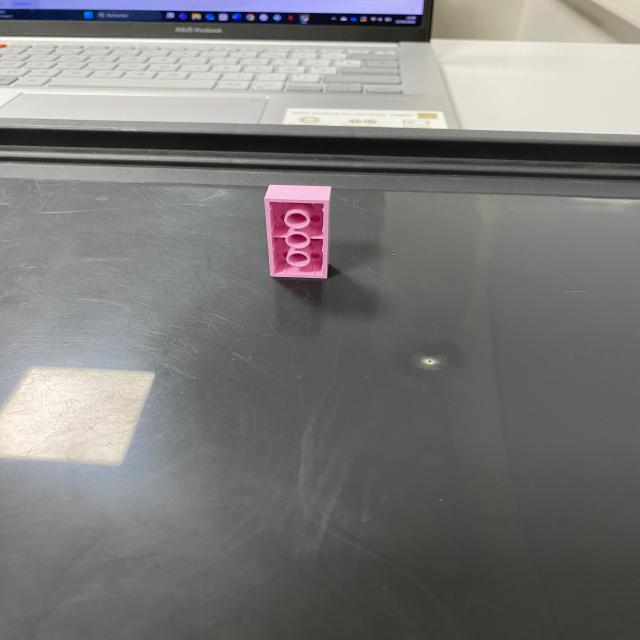C4x2x1: (262, 199, 331, 278), (260, 185, 332, 202)
